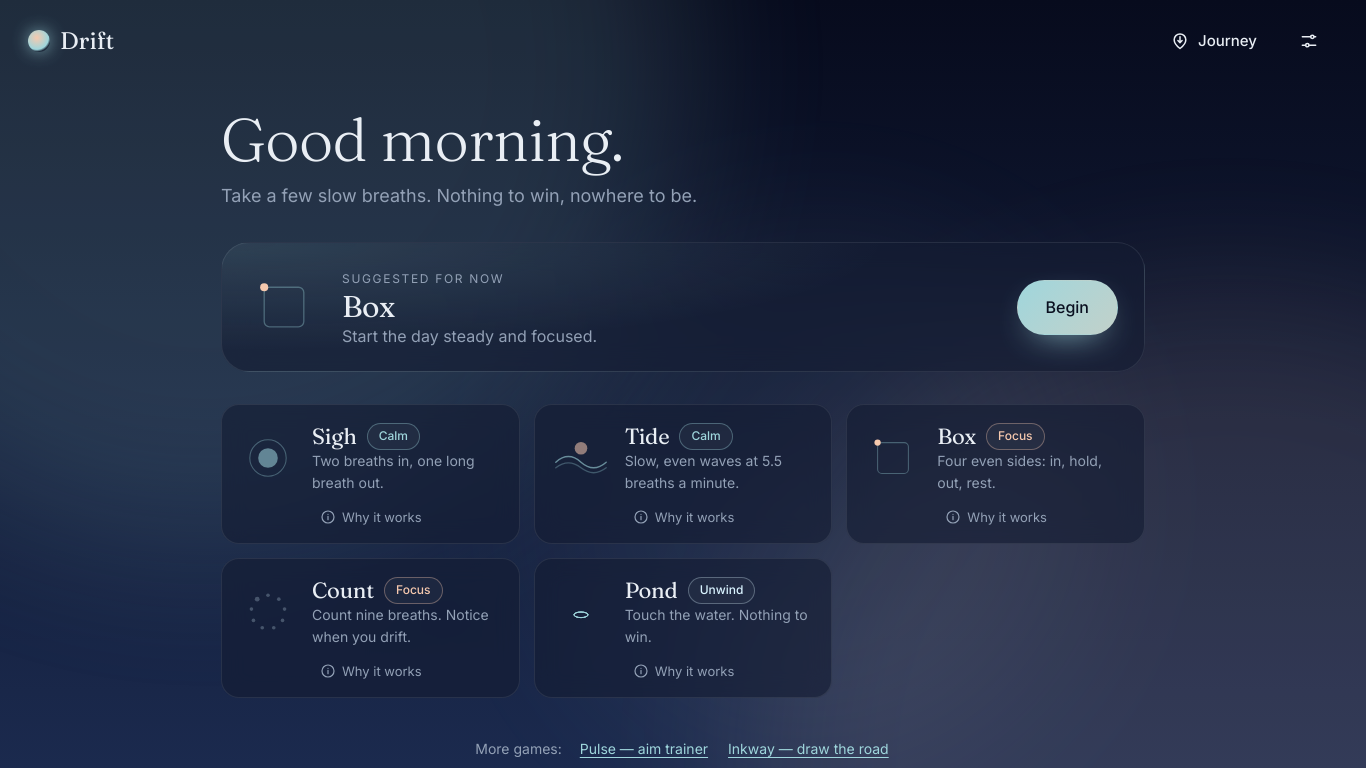
Test: home › opens a setup sheet that Escape closes
Click the button with aria-label "Box:" at x=996, y=454, box [847,405,1144,503]
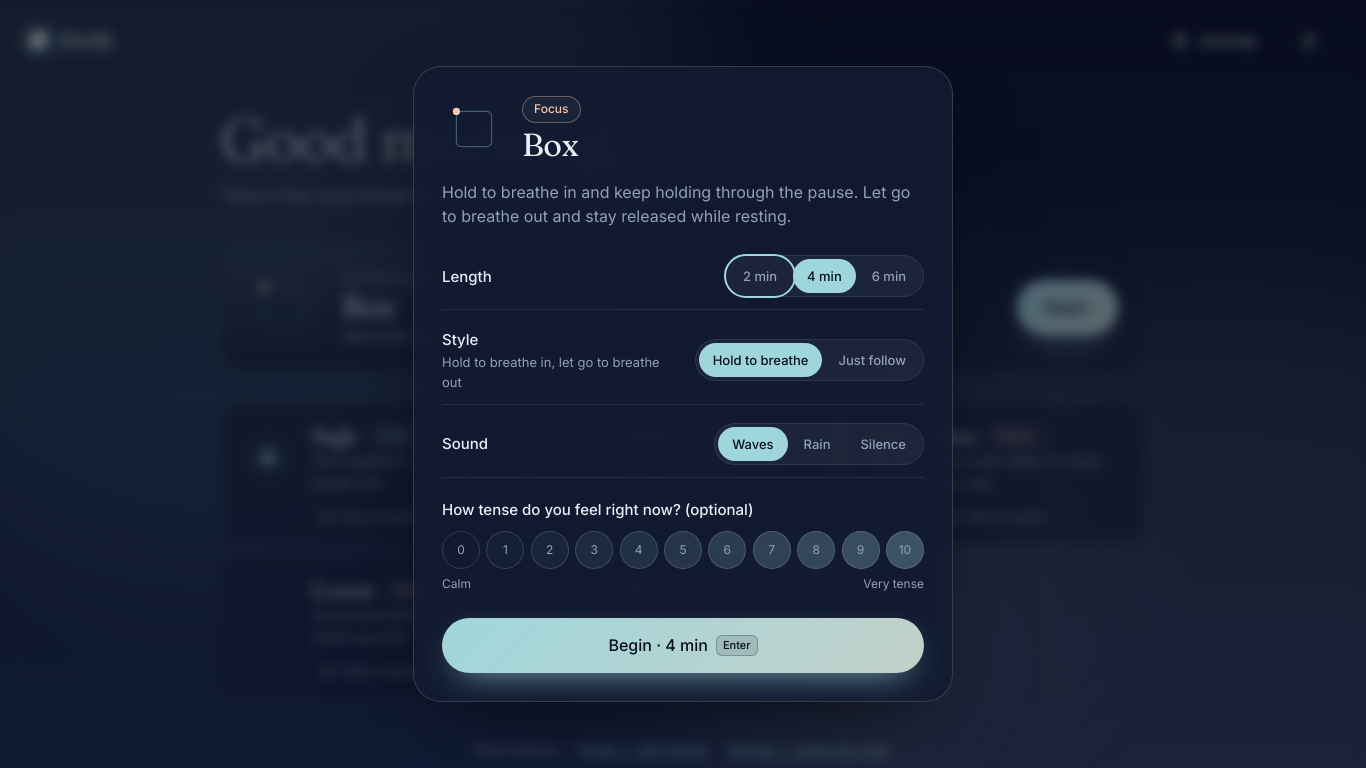
Expected: the text "keep holding through the pause" is shown, [442,182,910,226]
Press Escape
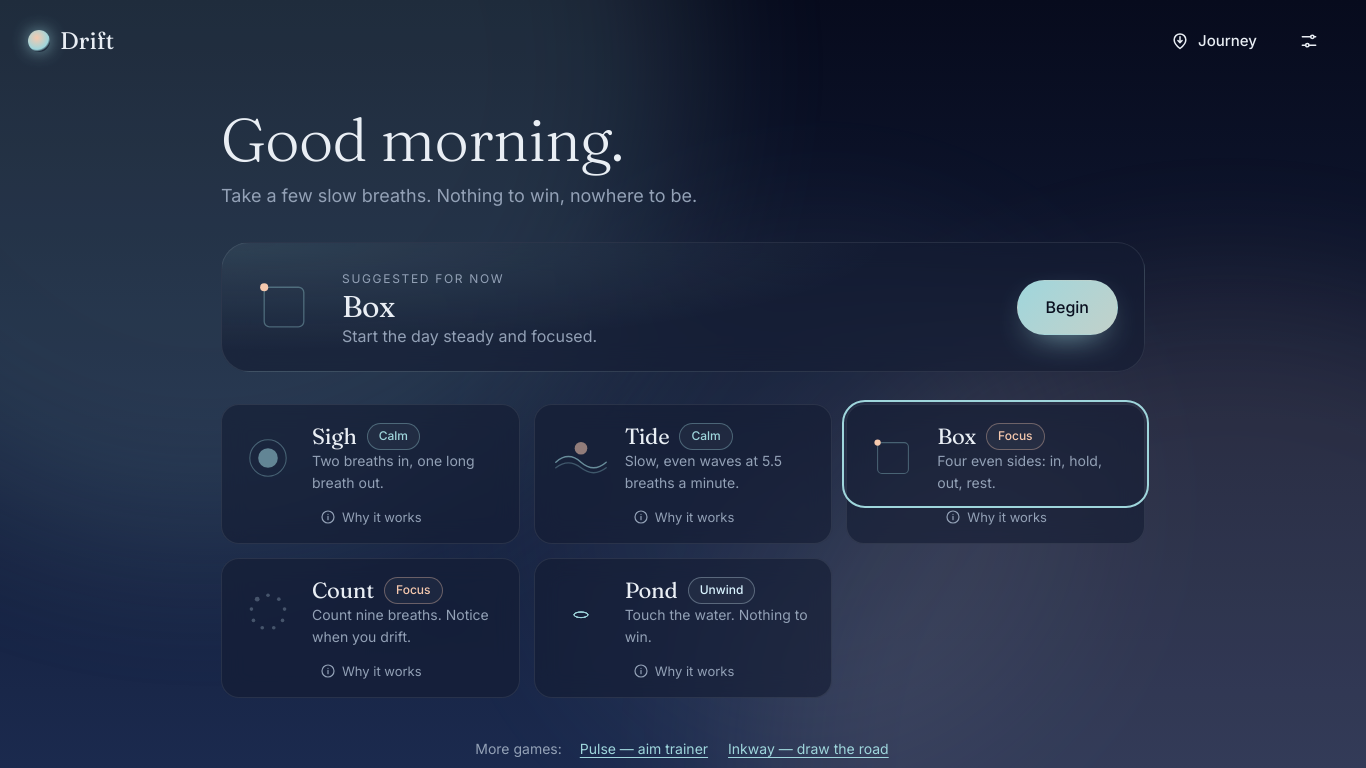
Expected: the dialog is gone
